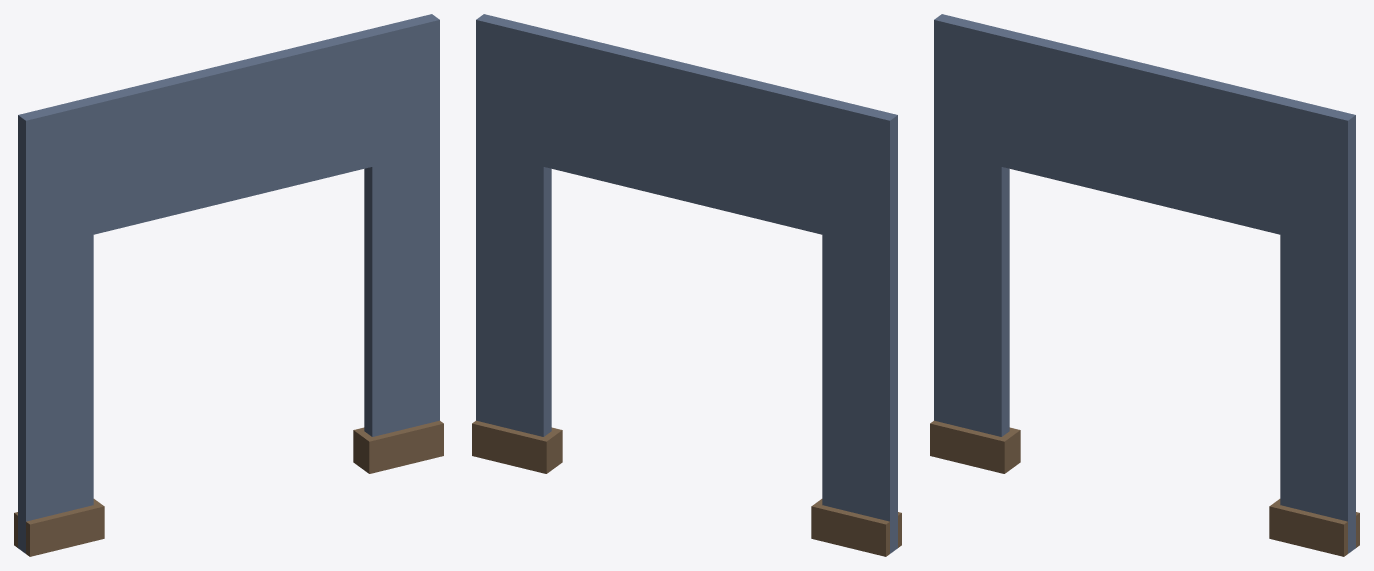
Rendered from Mesh_WallBaseboard_E5.fbx.
The picture shows the model from 3 angles, left to right: view 1: azimuth 30°, elevation 25°; view 2: azimuth 150°, elevation 25°; view 3: azimuth 330°, elevation 25°; orthographic projection.
Visible parts, largest first — view 1: Mesh_WallBaseboard_E5; view 2: Mesh_WallBaseboard_E5; view 3: Mesh_WallBaseboard_E5.
Part boxes in pixels (bbox=[...]): Mesh_WallBaseboard_E5: bbox=[14, 14, 443, 556]; Mesh_WallBaseboard_E5: bbox=[472, 14, 901, 556]; Mesh_WallBaseboard_E5: bbox=[930, 14, 1359, 556].
Bounding box in the file's own units: 3 × 3 × 0.2.
